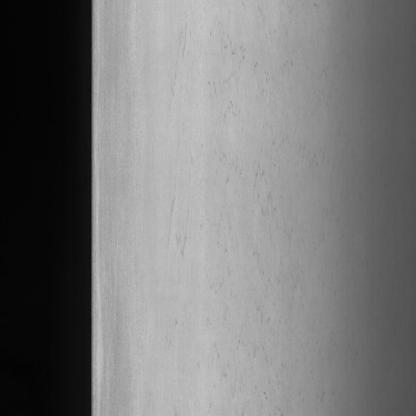silk_spot: (160, 32, 336, 392)
